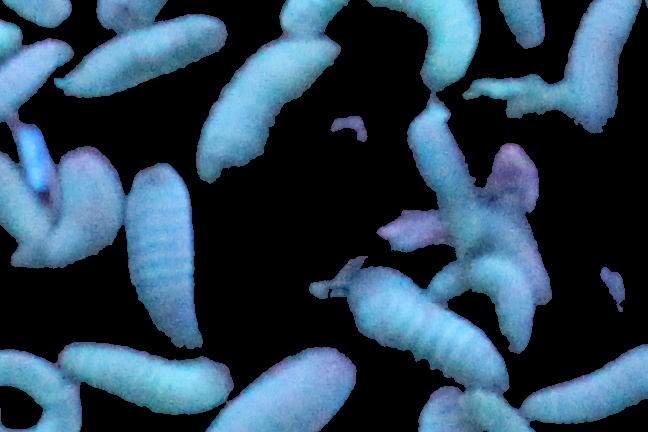larvae: (196, 41, 345, 192), (346, 264, 505, 388), (122, 165, 206, 351), (62, 14, 226, 101), (12, 149, 127, 267), (58, 341, 231, 416), (210, 348, 359, 432), (405, 105, 485, 247), (523, 343, 648, 427), (562, 1, 642, 130), (362, 1, 482, 86), (428, 258, 530, 351), (1, 347, 81, 432), (1, 41, 70, 113), (1, 155, 50, 241), (281, 1, 350, 37), (501, 1, 550, 48), (1, 1, 77, 26)
